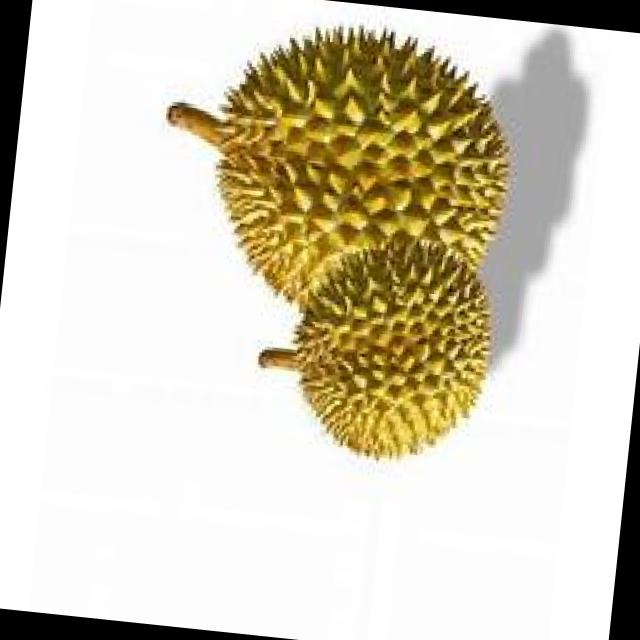fruit: (169, 0, 572, 383), (255, 196, 540, 494)
